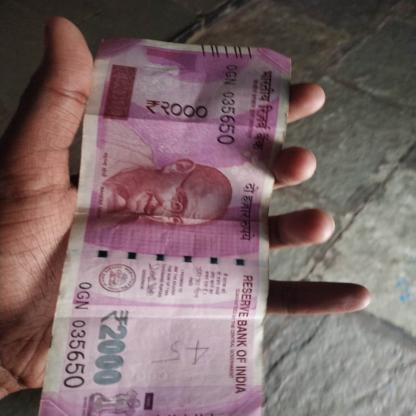New2000Front: (59, 47, 277, 416)
